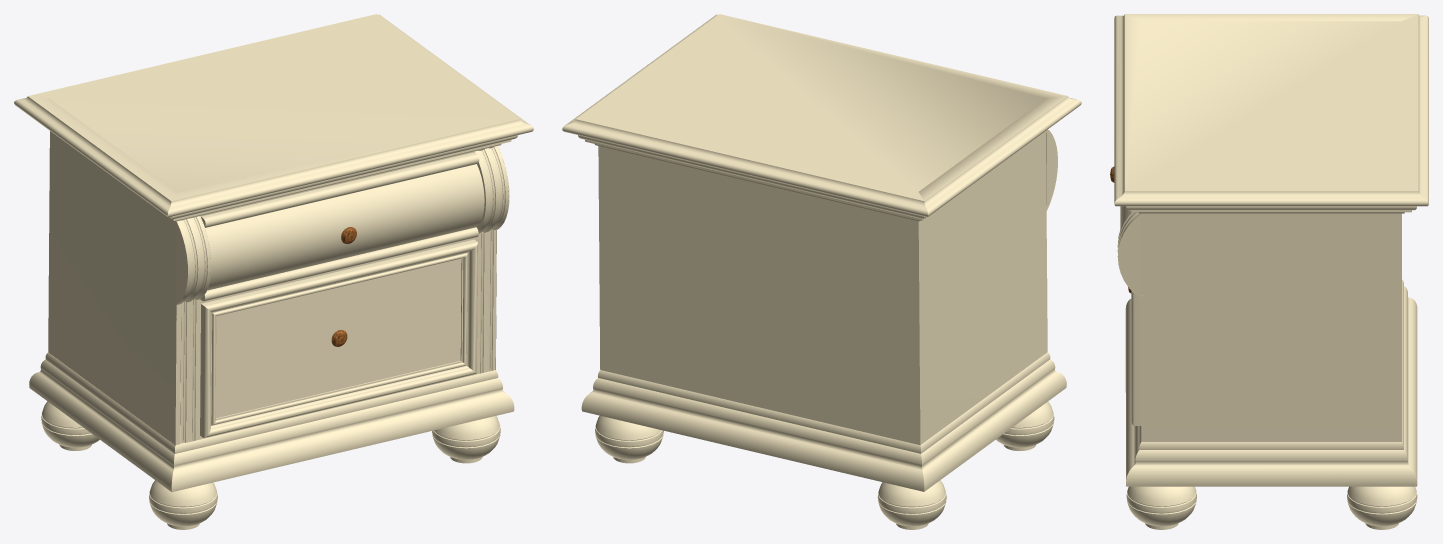
Rendered from mesita+d+noche.obj.
3 renders of one model, left to right at view 1: azimuth 30°, elevation 25°; view 2: azimuth 150°, elevation 25°; view 3: azimuth 270°, elevation 25°, orthographic. The views are drawn at different scales.
Visible parts, largest first — view 1: Mesh11 Model, Mesh4 Group4 Model, Mesh8 gabeta_1_1 Model, Mesh2 Group2 Model, Mesh1 Group1 Model, Mesh5 Group5 Model, Mesh3 Group3 Model, Mesh6 Group6 Model, Mesh15 Model; view 2: Mesh11 Model, Mesh6 Group6 Model, Mesh7 Group7 Model, Mesh1 Group1 Model, Mesh2 Group2 Model; view 3: Mesh11 Model, Mesh5 Group5 Model, Mesh7 Group7 Model, Mesh3 Group3 Model, Mesh4 Group4 Model.
Boxes of the visible parts, x1,y1,x2,y2 form: Mesh11 Model: (14,14,533,491); Mesh4 Group4 Model: (200,239,477,437); Mesh8 gabeta_1_1 Model: (200,152,484,301); Mesh2 Group2 Model: (175,216,211,304); Mesh1 Group1 Model: (149,480,217,529); Mesh5 Group5 Model: (432,416,500,463); Mesh3 Group3 Model: (474,146,509,233); Mesh6 Group6 Model: (41,401,99,450); Mesh15 Model: (175,304,180,445); Mesh11 Model: (562,14,1081,491); Mesh6 Group6 Model: (877,480,946,529); Mesh7 Group7 Model: (595,415,663,463); Mesh1 Group1 Model: (996,401,1054,450); Mesh2 Group2 Model: (1045,129,1057,210); Mesh11 Model: (1114,14,1428,486); Mesh5 Group5 Model: (1126,486,1196,529); Mesh7 Group7 Model: (1347,486,1417,529); Mesh3 Group3 Model: (1117,211,1142,298); Mesh4 Group4 Model: (1131,291,1141,425).
Size of the model in its own units: 25.23 by 22.7 by 18.6.
Materials: 2 (1 with a texture image).
